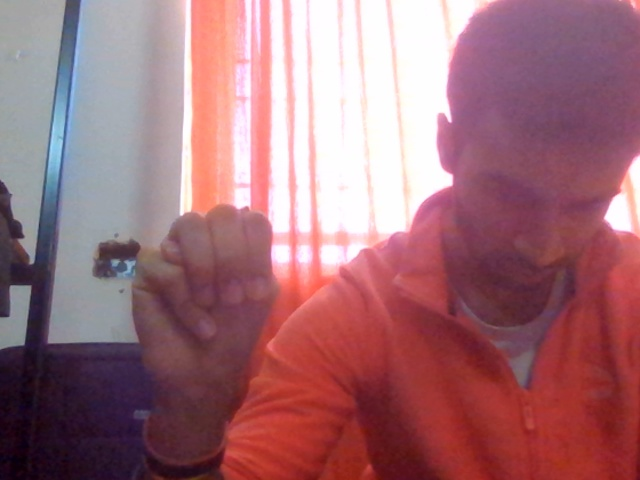M: (78, 171, 308, 445)
